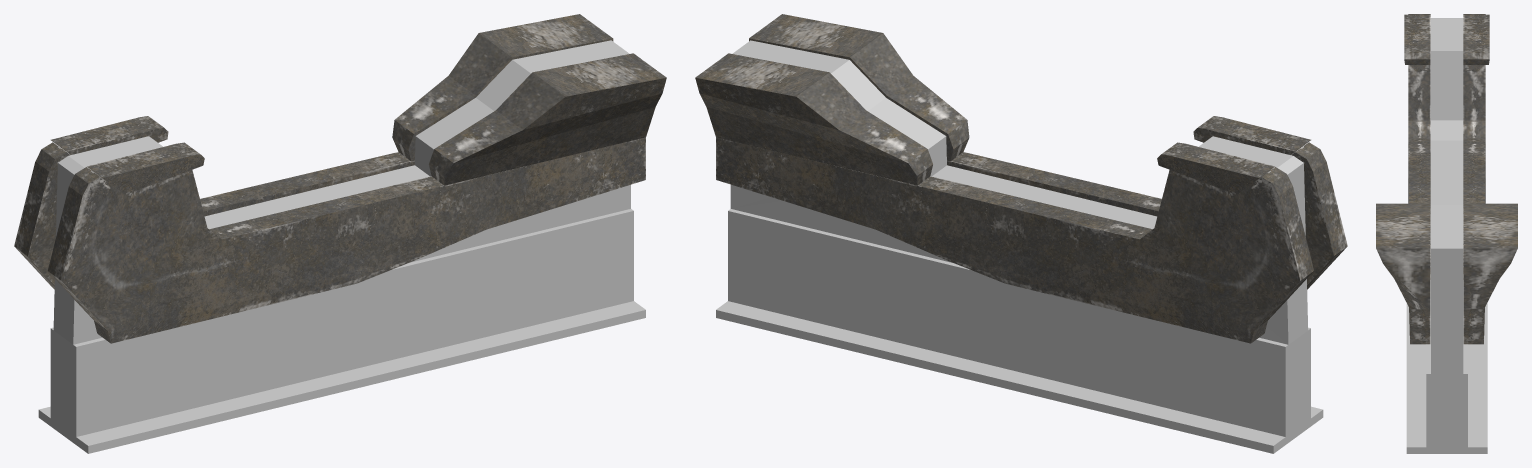
The model's file is TieQi.FBX.
3 views of the same model, side by side, from view 1: azimuth 30°, elevation 25°; view 2: azimuth 150°, elevation 25°; view 3: azimuth 270°, elevation 25° (orthographic). The views are drawn at different scales.
Visible parts, largest first — view 1: YF_Model_TieQi; view 2: YF_Model_TieQi; view 3: YF_Model_TieQi.
Part boxes in pixels (x1,y1,x2,y2): YF_Model_TieQi: (14, 14, 666, 453); YF_Model_TieQi: (695, 14, 1347, 453); YF_Model_TieQi: (1376, 14, 1517, 453).
Bounding box in the file's own units: 7.94 × 3.56 × 2.04.
